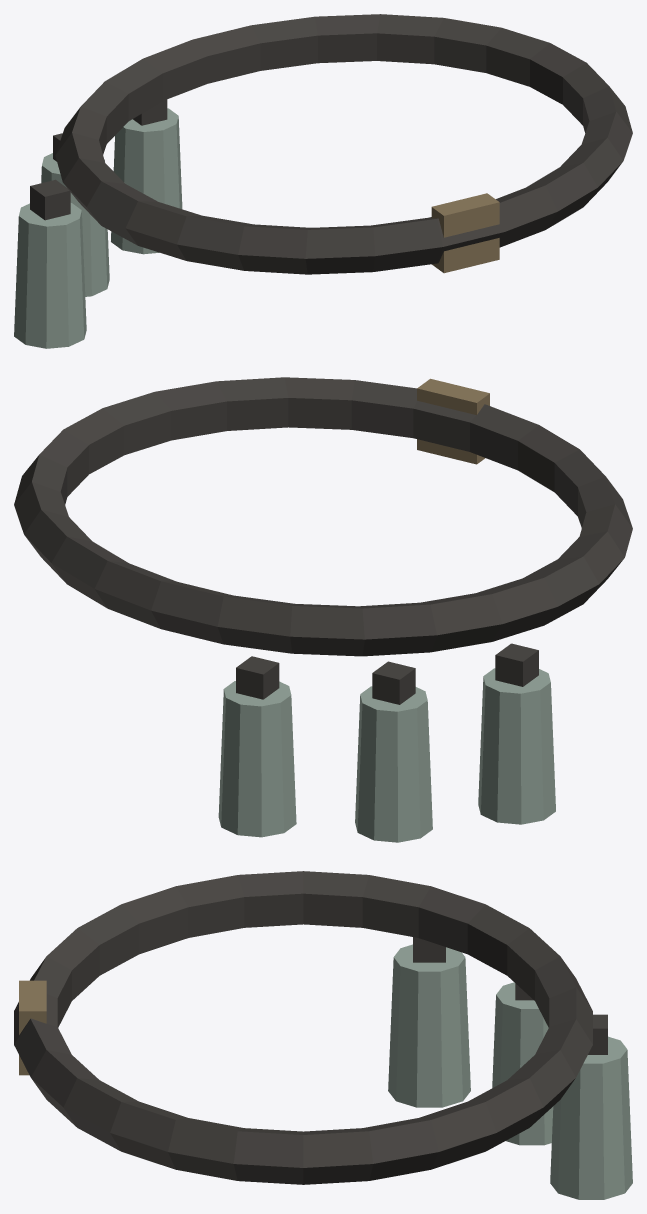
File: SinBelt.fbx
3 views of the same model, one above another, from view 1: azimuth 30°, elevation 25°; view 2: azimuth 150°, elevation 25°; view 3: azimuth 270°, elevation 25° (orthographic). The views are drawn at different scales.
Visible parts, largest first — view 1: SinBelt; view 2: SinBelt; view 3: SinBelt.
Boxes of the visible parts, bbox=[...] form: SinBelt: bbox=[14, 14, 632, 348]; SinBelt: bbox=[14, 377, 632, 842]; SinBelt: bbox=[14, 871, 632, 1199].
Bounding box in the file's own units: 21.06 × 7.7 × 19.28.
